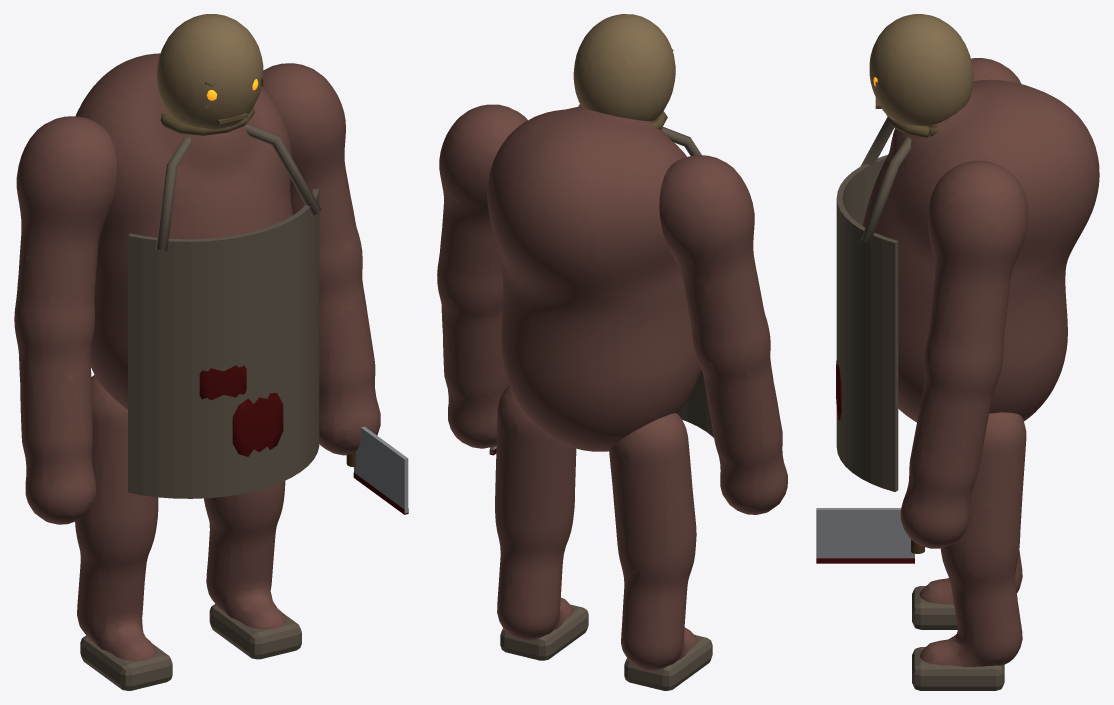
Rendered from brute.glb.
3 views of the same model, side by side, from view 1: azimuth 30°, elevation 25°; view 2: azimuth 150°, elevation 25°; view 3: azimuth 270°, elevation 25° (orthographic). The views are drawn at different scales.
Parts seen in each view (by area): view 1: torso_mesh, arm_mesh_0, arm_1_mesh, leg_0_mesh, leg_1_mesh, head_mesh; view 2: torso_mesh, arm_mesh_0, leg_0_mesh, arm_1_mesh, leg_1_mesh, head_mesh; view 3: torso_mesh, arm_1_mesh, leg_1_mesh, head_mesh, leg_0_mesh, arm_mesh_0.
Part boxes in pixels (<box>): torso_mesh: <box>75,53,321,498</box>; arm_mesh_0: <box>14,116,116,524</box>; arm_1_mesh: <box>261,63,408,514</box>; leg_0_mesh: <box>75,375,172,690</box>; leg_1_mesh: <box>204,481,301,659</box>; head_mesh: <box>157,14,264,135</box>; torso_mesh: <box>487,106,713,451</box>; arm_mesh_0: <box>659,155,787,514</box>; leg_0_mesh: <box>609,413,712,690</box>; arm_1_mesh: <box>437,104,527,455</box>; leg_1_mesh: <box>495,385,588,660</box>; head_mesh: <box>573,14,675,129</box>; torso_mesh: <box>836,79,1099,491</box>; arm_1_mesh: <box>816,160,1027,563</box>; leg_1_mesh: <box>912,412,1026,690</box>; head_mesh: <box>869,14,973,137</box>; leg_0_mesh: <box>912,550,1022,629</box>; arm_mesh_0: <box>971,58,1021,83</box>.
Bounding box in the file's own units: 1.34 × 2.42 × 0.978.
